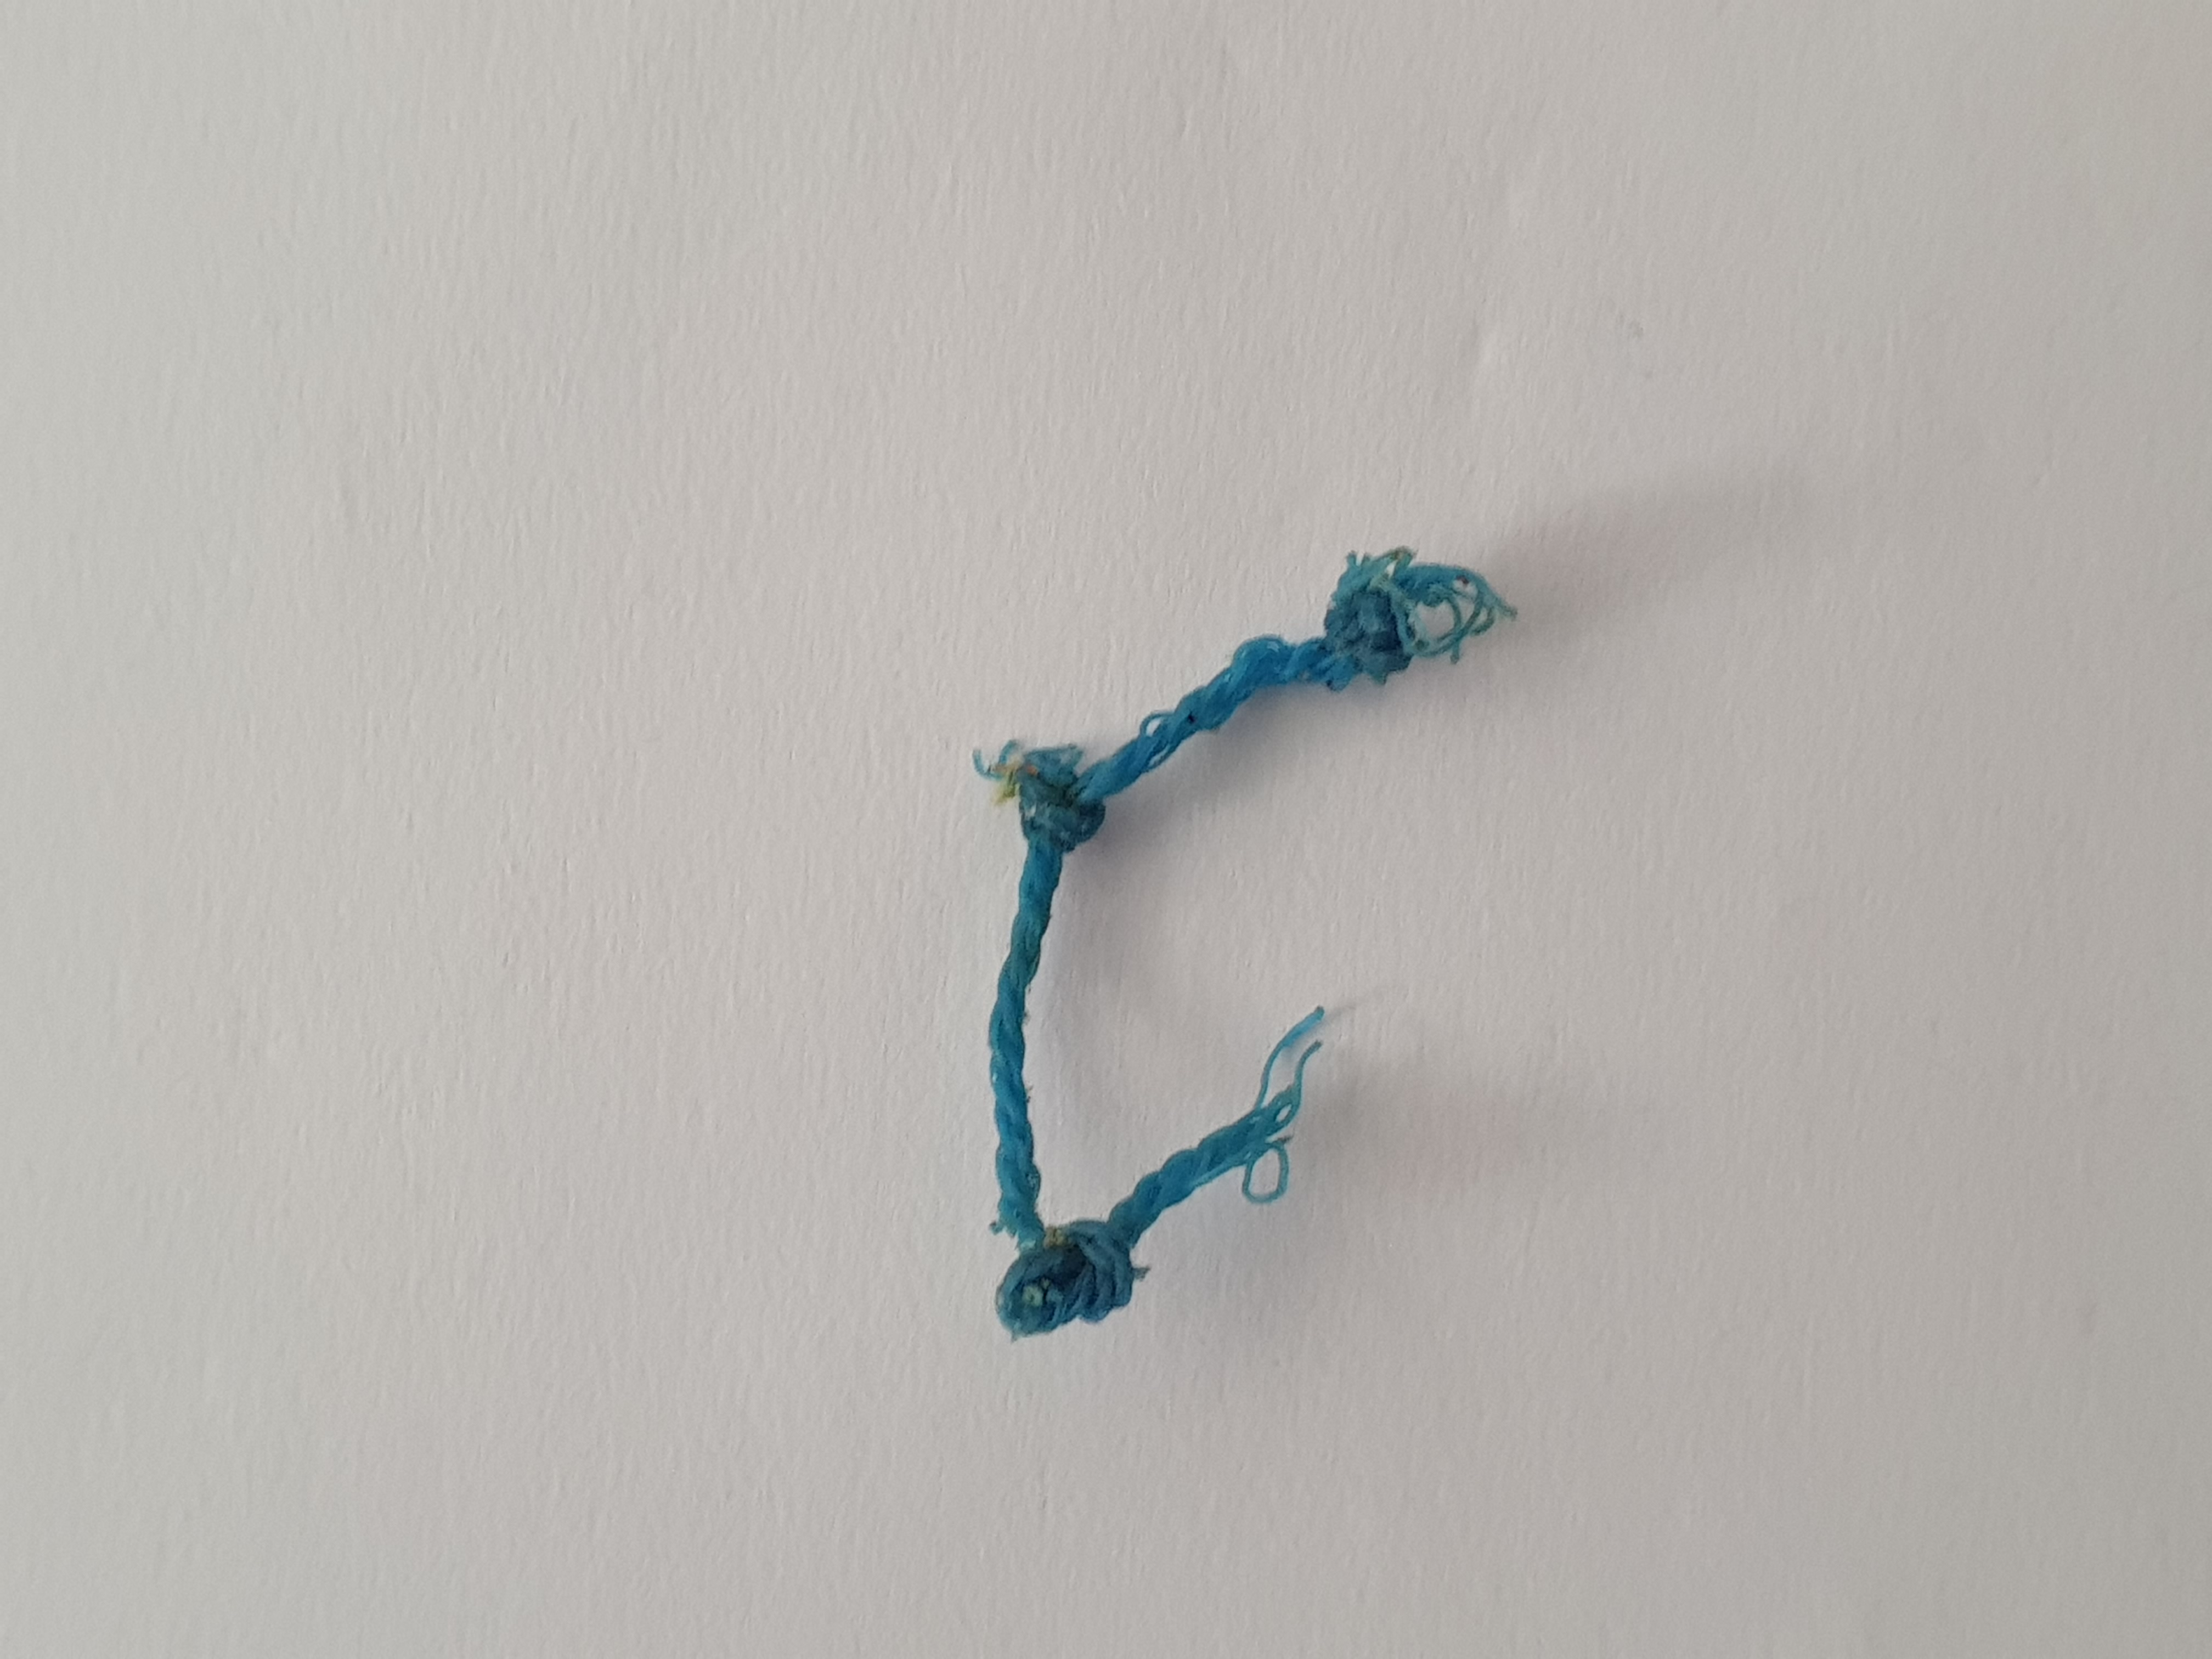thread: (913, 525, 1541, 1363)
